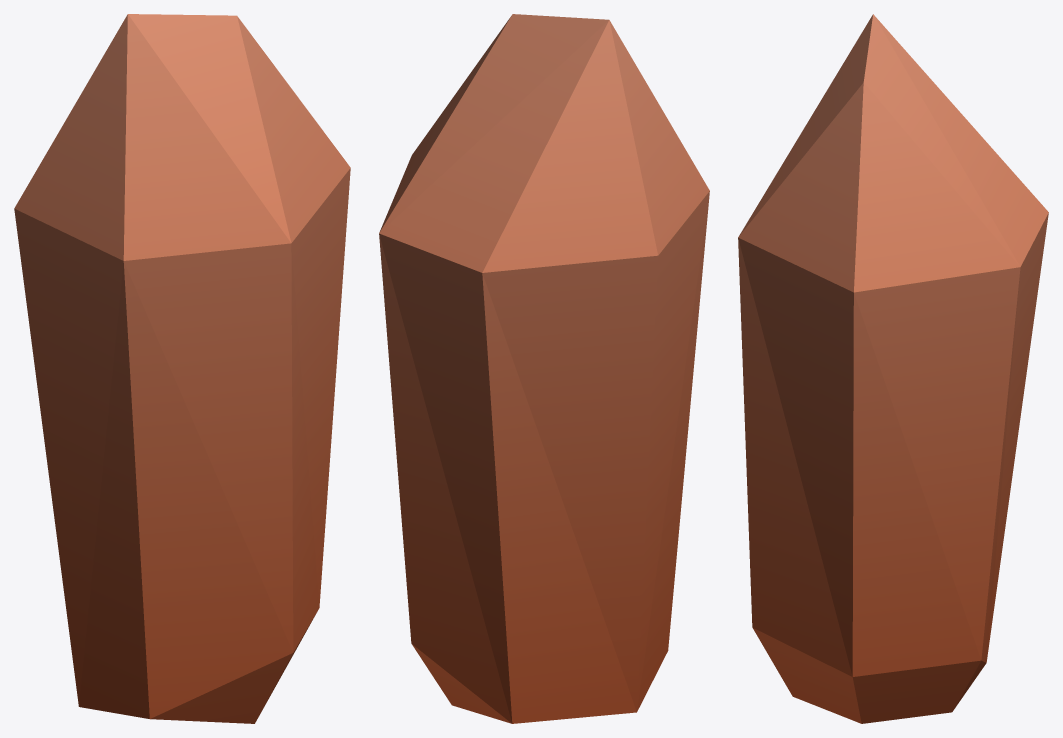
File: Crystal_13.fbx
3 renders of one model, left to right at view 1: azimuth 30°, elevation 25°; view 2: azimuth 150°, elevation 25°; view 3: azimuth 270°, elevation 25°, orthographic. The views are drawn at different scales.
Visible parts, largest first — view 1: Crystal_13; view 2: Crystal_13; view 3: Crystal_13.
Boxes of the visible parts, x1,y1,x2,y2 form: Crystal_13: (14, 14, 350, 723); Crystal_13: (379, 14, 709, 723); Crystal_13: (738, 14, 1048, 723).
Size of the model in its own units: 0.434 by 0.9846 by 0.4299.
